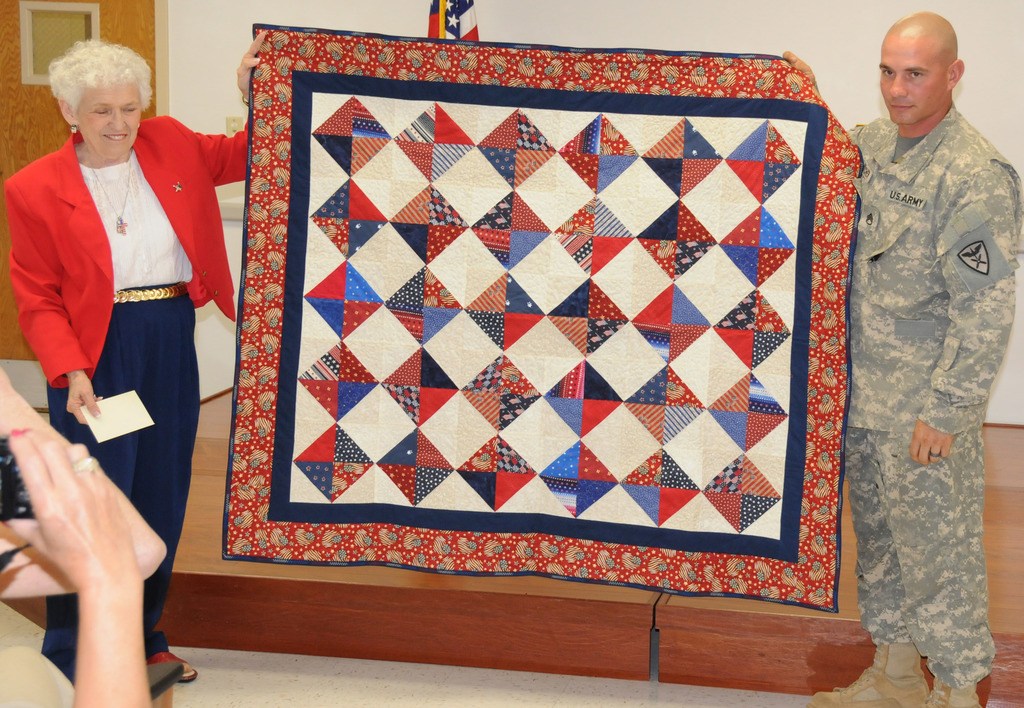Person: (2, 32, 265, 681), (782, 10, 1023, 707), (0, 368, 166, 708)
